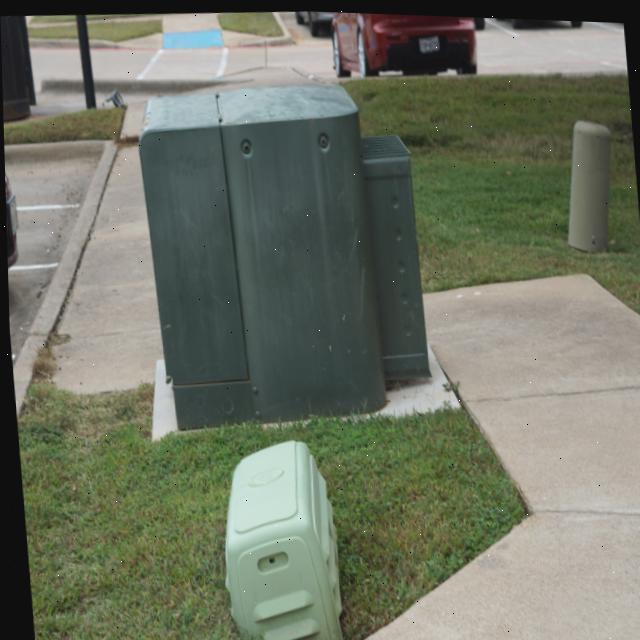Automobile: (295, 9, 485, 75), (4, 172, 16, 270)
Obstacle: (138, 82, 429, 429), (222, 439, 339, 640), (567, 117, 610, 247), (76, 14, 94, 108)
Road: (92, 10, 335, 80), (4, 142, 103, 266), (476, 14, 627, 71), (6, 271, 50, 353), (32, 48, 81, 90), (27, 91, 84, 120)
Sidewalk: (358, 270, 640, 640), (51, 145, 160, 393)
